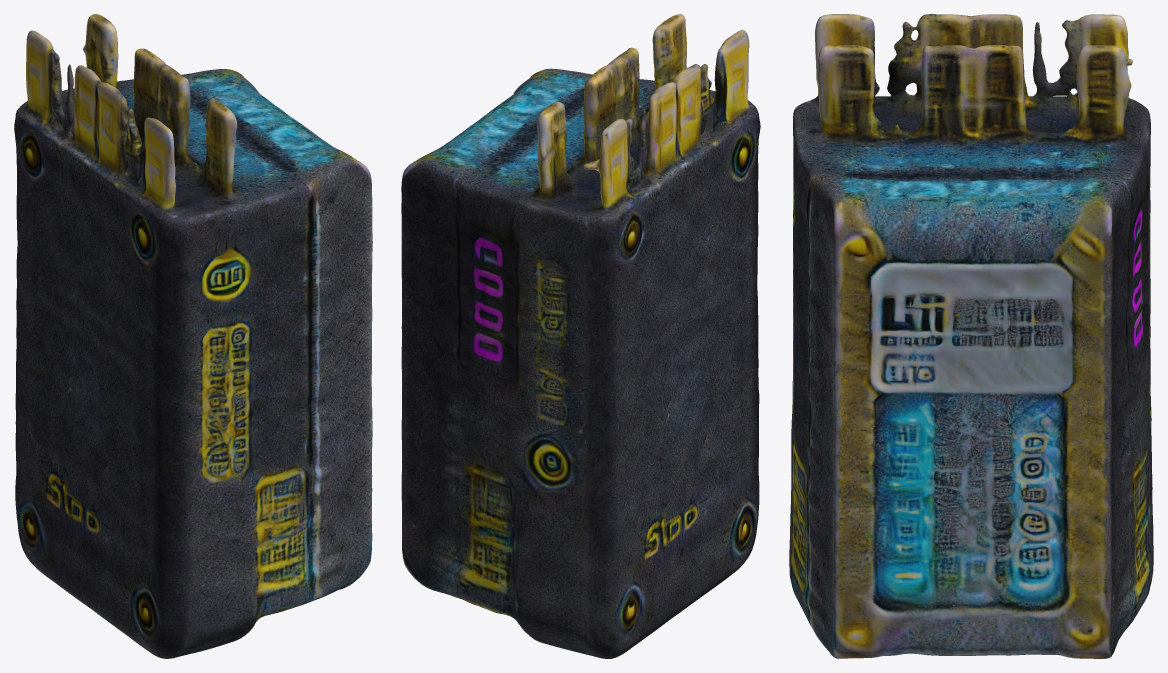
File: Modchip Model.glb
The picture shows the model from 3 angles, left to right: view 1: azimuth 30°, elevation 25°; view 2: azimuth 150°, elevation 25°; view 3: azimuth 270°, elevation 25°; orthographic projection. The views are drawn at different scales.
Parts seen in each view (by area): view 1: model; view 2: model; view 3: model.
Part boxes in pixels (bbox=[...]): model: bbox=[14, 14, 372, 658]; model: bbox=[401, 14, 760, 658]; model: bbox=[789, 14, 1153, 658].
Size of the model in its own units: 0.7202 by 1.65 by 0.9335.
1 material, 1 textured.
